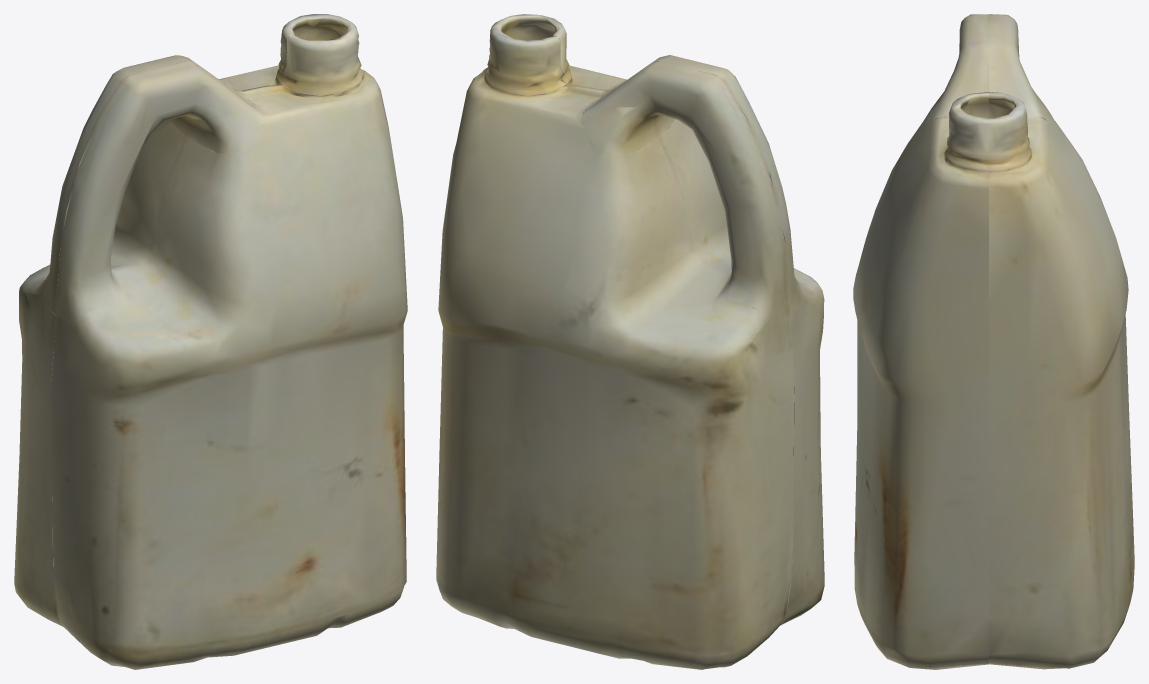
Rendered from ph_plastic_bottle_gallon.glb.
3 views of the same model, side by side, from view 1: azimuth 30°, elevation 25°; view 2: azimuth 150°, elevation 25°; view 3: azimuth 270°, elevation 25° (orthographic).
Visible parts, largest first — view 1: plastic_bottle_gallon; view 2: plastic_bottle_gallon; view 3: plastic_bottle_gallon.
Part boxes in pixels (x1,y1,x2,y2): plastic_bottle_gallon: [14, 14, 407, 669]; plastic_bottle_gallon: [436, 14, 824, 669]; plastic_bottle_gallon: [853, 14, 1134, 669].
Size of the model in its own units: 0.1664 by 0.2746 by 0.1266.
Materials: 1 (1 with a texture image).
